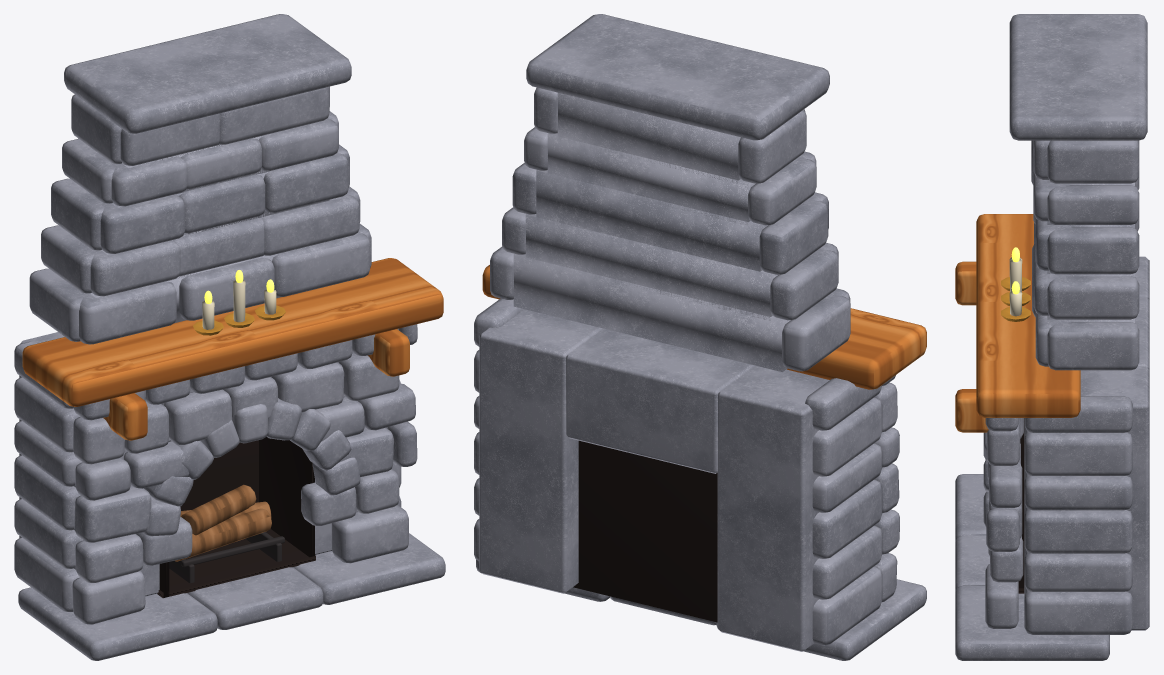
File: fireplace.glb
The picture shows the model from 3 angles, left to right: view 1: azimuth 30°, elevation 25°; view 2: azimuth 150°, elevation 25°; view 3: azimuth 270°, elevation 25°; orthographic projection. The views are drawn at different scales.
Visible parts, largest first — view 1: model; view 2: model; view 3: model.
Part boxes in pixels (left/top/right/bottom): model: left=14, top=14, right=445, bottom=660; model: left=474, top=14, right=926, bottom=660; model: left=955, top=14, right=1149, bottom=660.
Bounding box in the file's own units: 2.06 × 2.7 × 0.93.
Materials: 8 (3 with a texture image).
